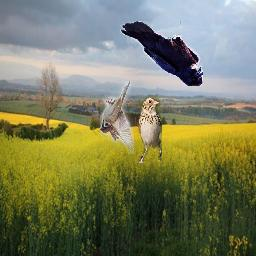Crow: (121, 22, 204, 87)
Sparrow: (100, 82, 134, 155), (138, 95, 163, 163)
